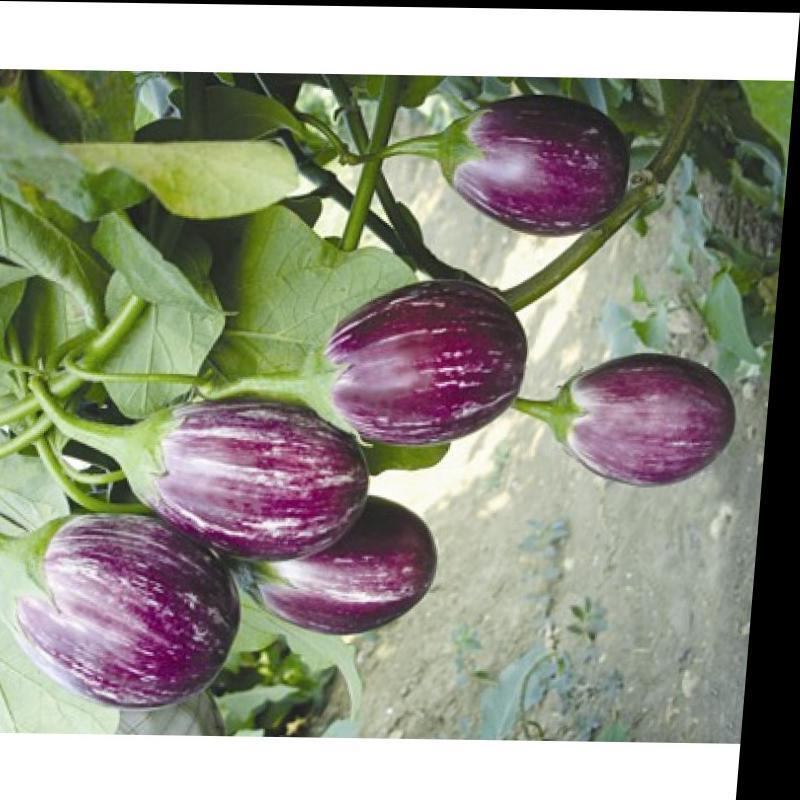eggplant: (44, 357, 397, 551), (0, 498, 247, 732), (256, 269, 577, 437), (398, 61, 650, 258), (511, 334, 754, 525), (246, 496, 469, 664)
